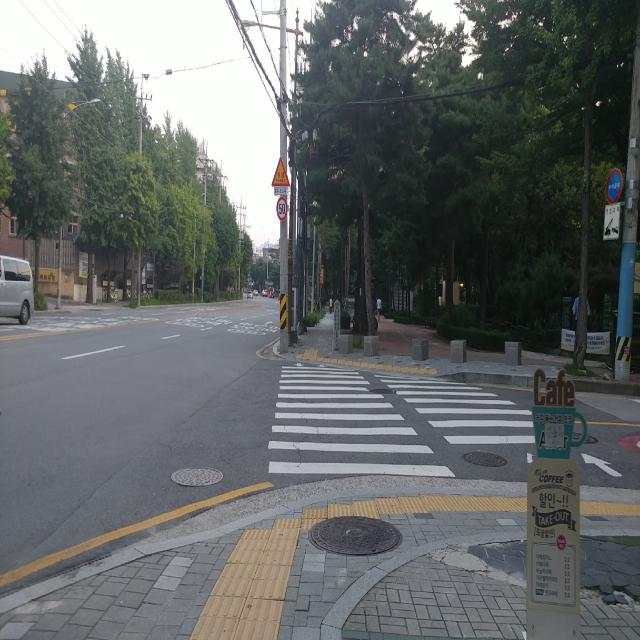횡단보도: (268, 363, 622, 477)
